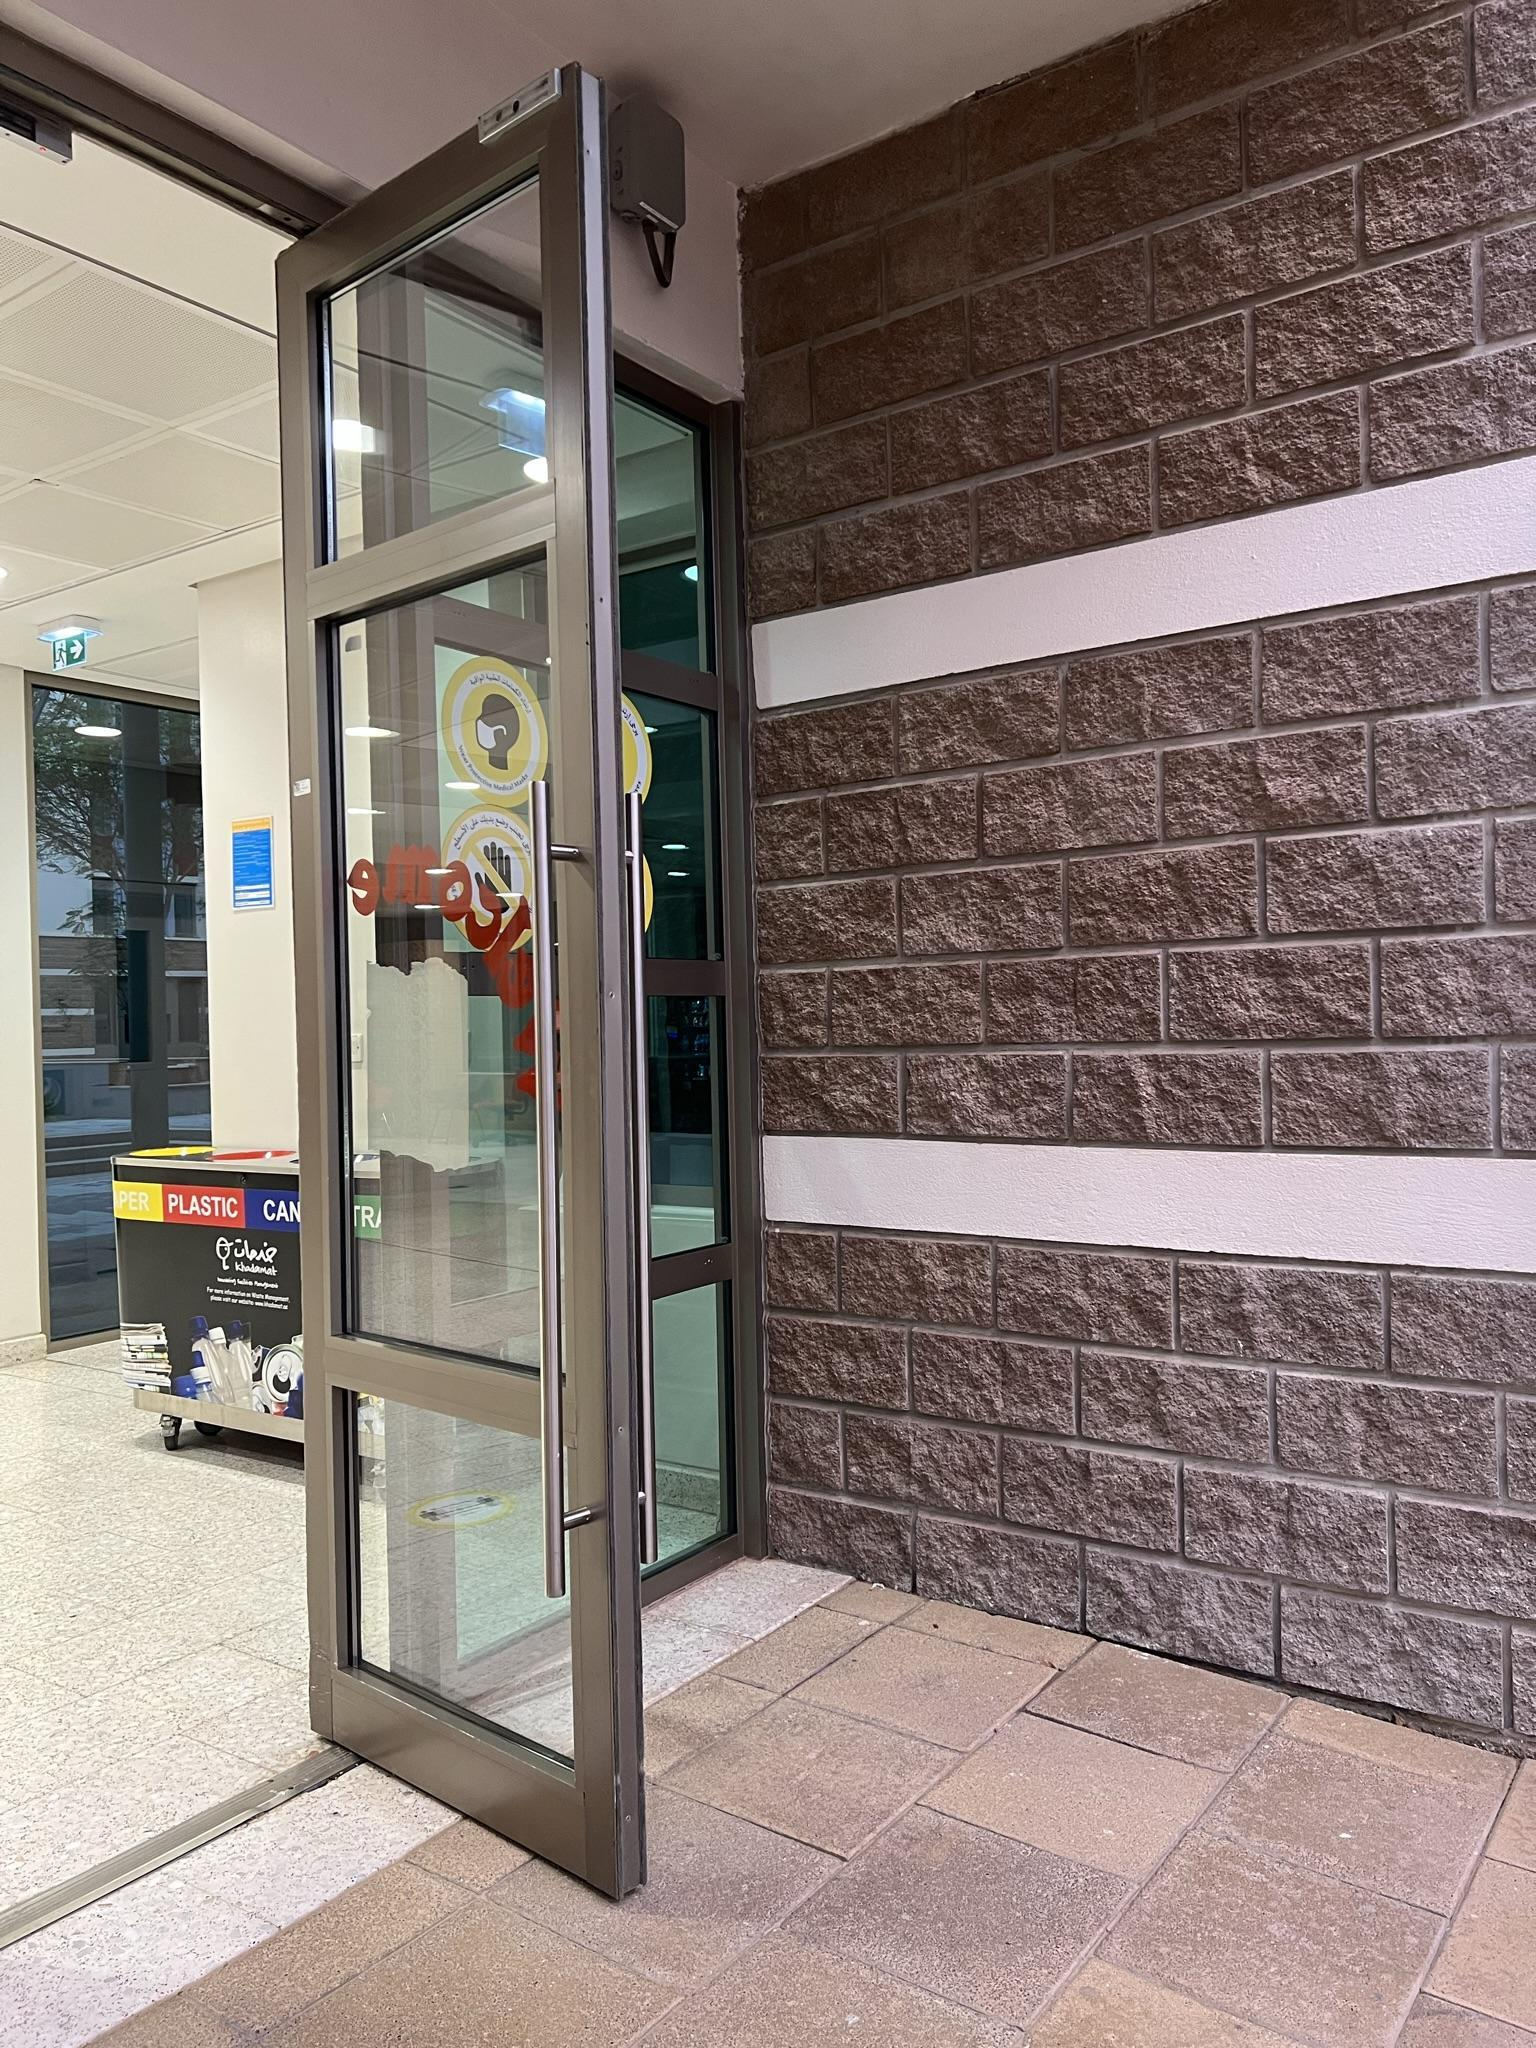door: (252, 152, 645, 1846)
handle: (523, 766, 594, 1601)
